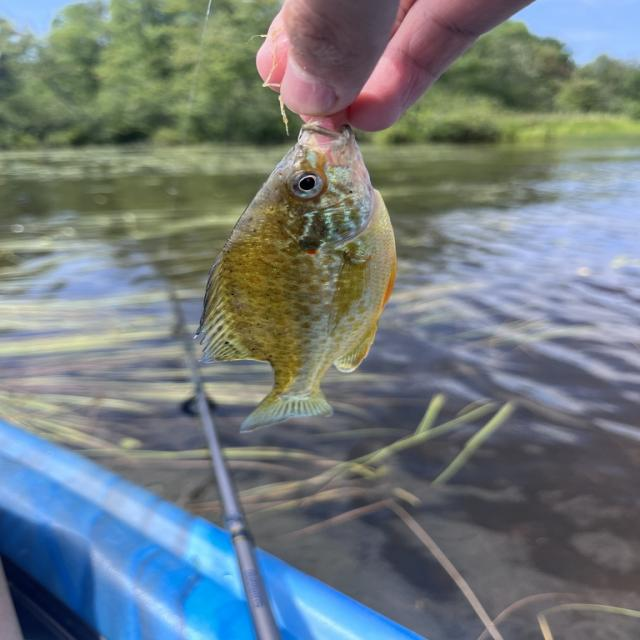Gunes Levregi: (191, 121, 398, 435)
